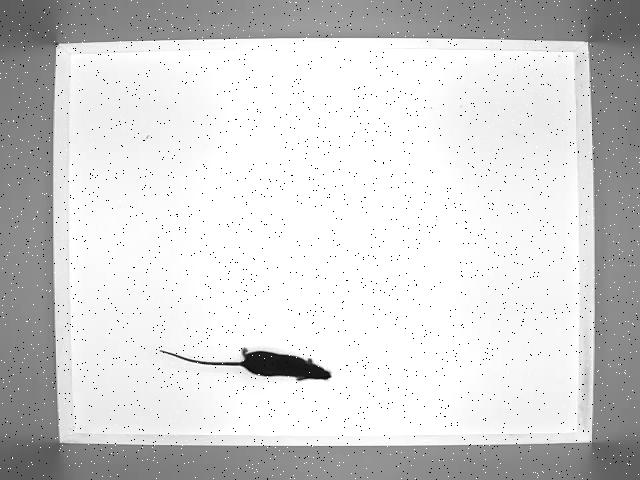Tikus: (155, 342, 339, 389)
